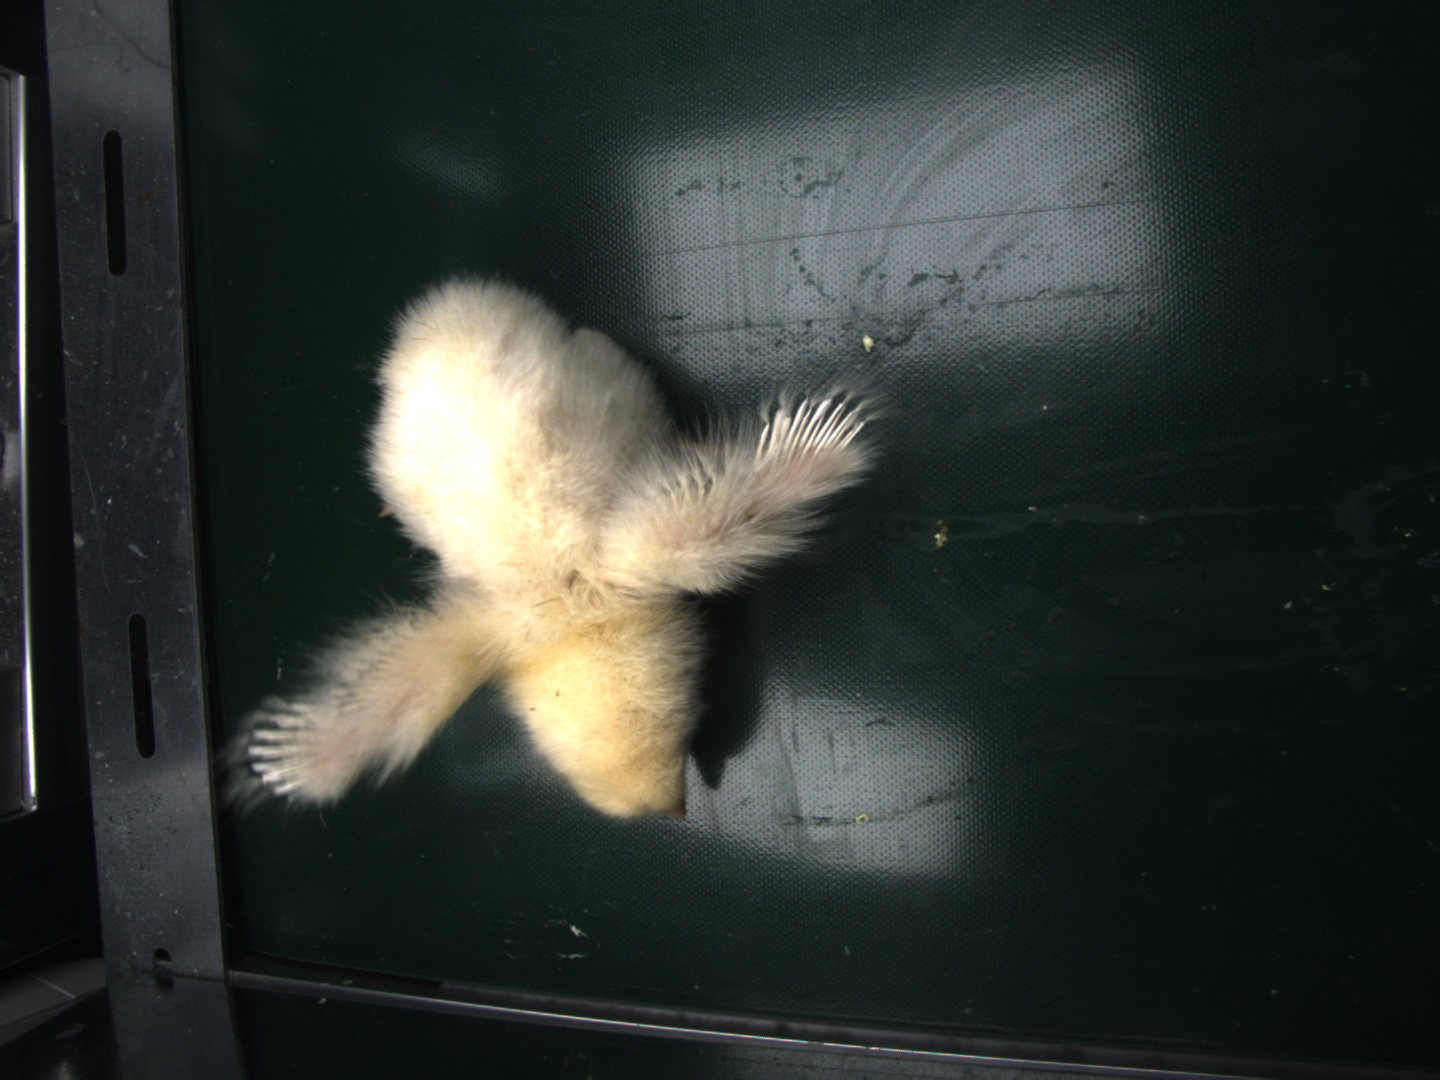male: (754, 394, 867, 470)
